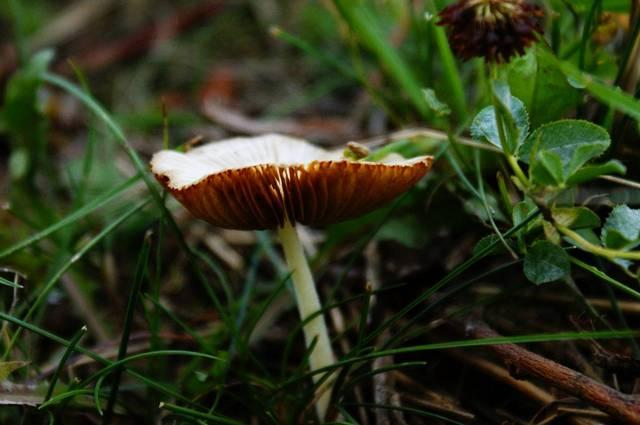Edible Mushroom: (148, 131, 434, 422)
